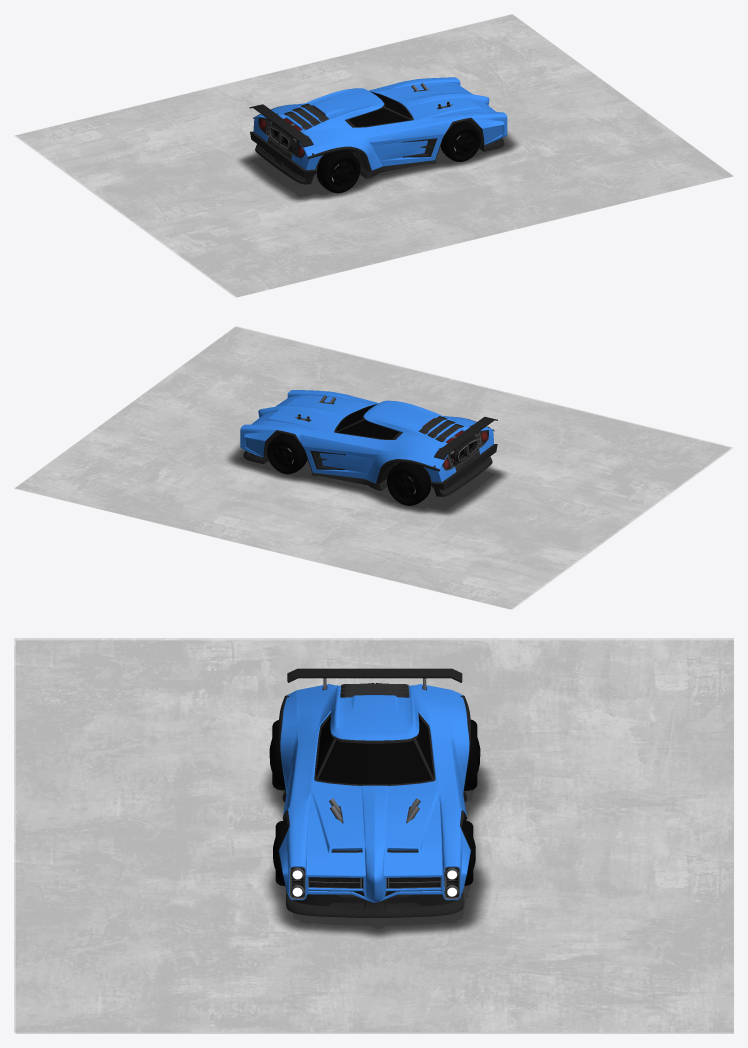
Rendered from car.glb.
The picture shows the model from 3 angles, top to bottom: view 1: azimuth 30°, elevation 25°; view 2: azimuth 150°, elevation 25°; view 3: azimuth 270°, elevation 25°; orthographic projection. The views are drawn at different scales.
Parts seen in each view (by area): view 1: ground, groundDetail, Dominus, 平面, Cristiano - BR (Dominus), Cristiano - FR (Dominus); view 2: ground, groundDetail, Dominus, 平面, Cristiano - BL (Dominus), Cristiano - FL (Dominus); view 3: ground, groundDetail, Dominus, 平面, Cristiano - BL (Dominus), Cristiano - BR (Dominus).
Boxes of the visible parts, <box> form: ground: <box>16,14,733,297</box>; groundDetail: <box>15,14,732,297</box>; Dominus: <box>249,77,507,184</box>; 平面: <box>239,133,518,201</box>; Cristiano - BR (Dominus): <box>316,150,360,193</box>; Cristiano - FR (Dominus): <box>440,121,480,161</box>; ground: <box>14,327,730,609</box>; groundDetail: <box>15,326,731,609</box>; Dominus: <box>240,390,497,496</box>; 平面: <box>227,445,506,514</box>; Cristiano - BL (Dominus): <box>387,462,431,505</box>; Cristiano - FL (Dominus): <box>267,433,307,474</box>; ground: <box>15,640,733,1033</box>; groundDetail: <box>14,638,733,1032</box>; Dominus: <box>278,668,470,917</box>; 平面: <box>263,763,492,937</box>; Cristiano - BL (Dominus): <box>464,719,480,790</box>; Cristiano - BR (Dominus): <box>269,720,285,790</box>.
Bounding box in the file's own units: 17.61 × 2.1 × 13.55.
10 materials, 3 textured.
